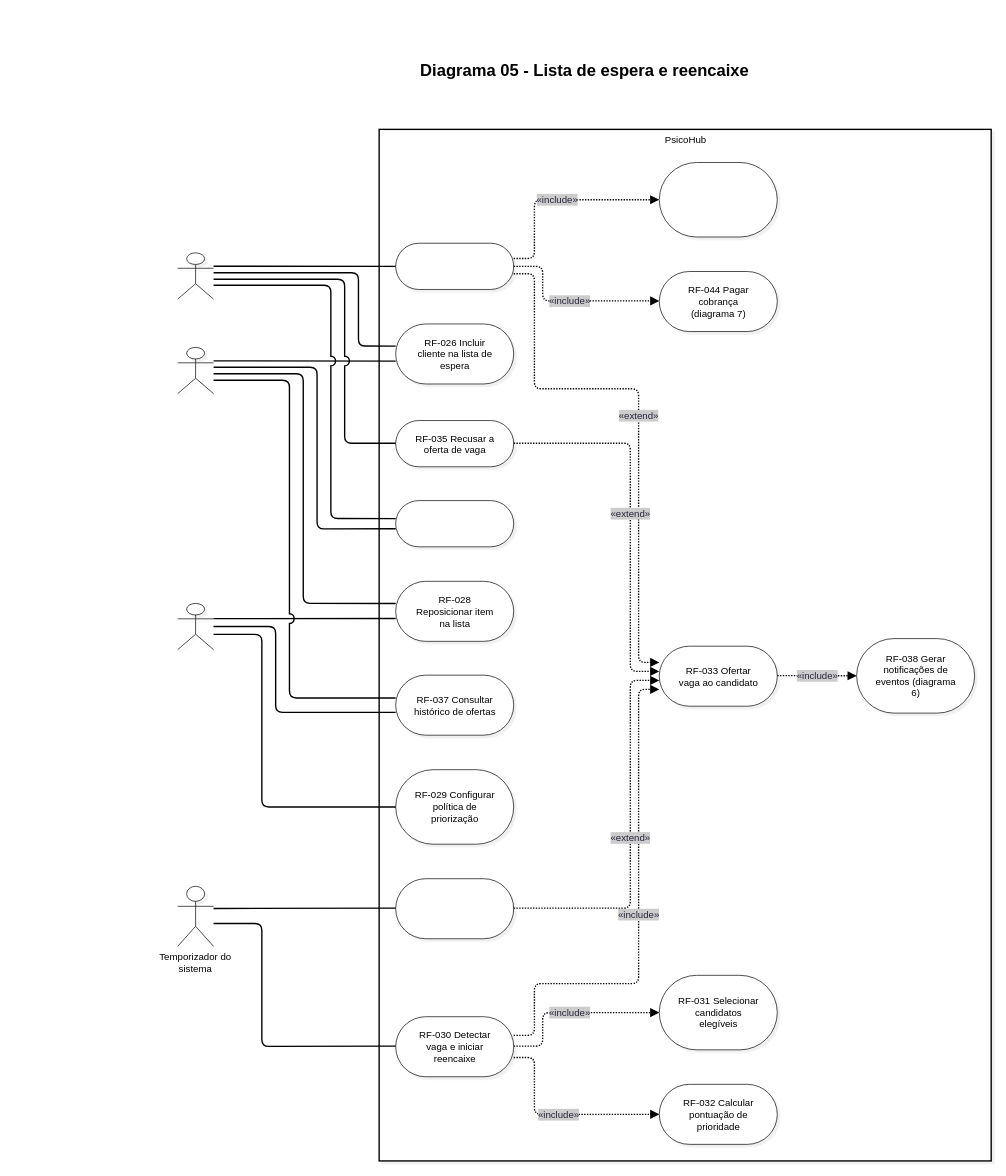
Image size: 1006x1176. Some labels were removed from this diagram. Each missing label, with the centre of its shape:
Administrador: pixel 196 627
Atendente: pixel 196 371
Cliente/paciente: pixel 196 277
RF-027 Gerenciar item da lista: pixel 455 525
RF-034 Aceitar a oferta de vaga: pixel 455 267
RF-036 Expirar oferta e reofertar: pixel 455 910
RF-043 Gerar cobrança do agendamento (diagrama 7): pixel 719 201
